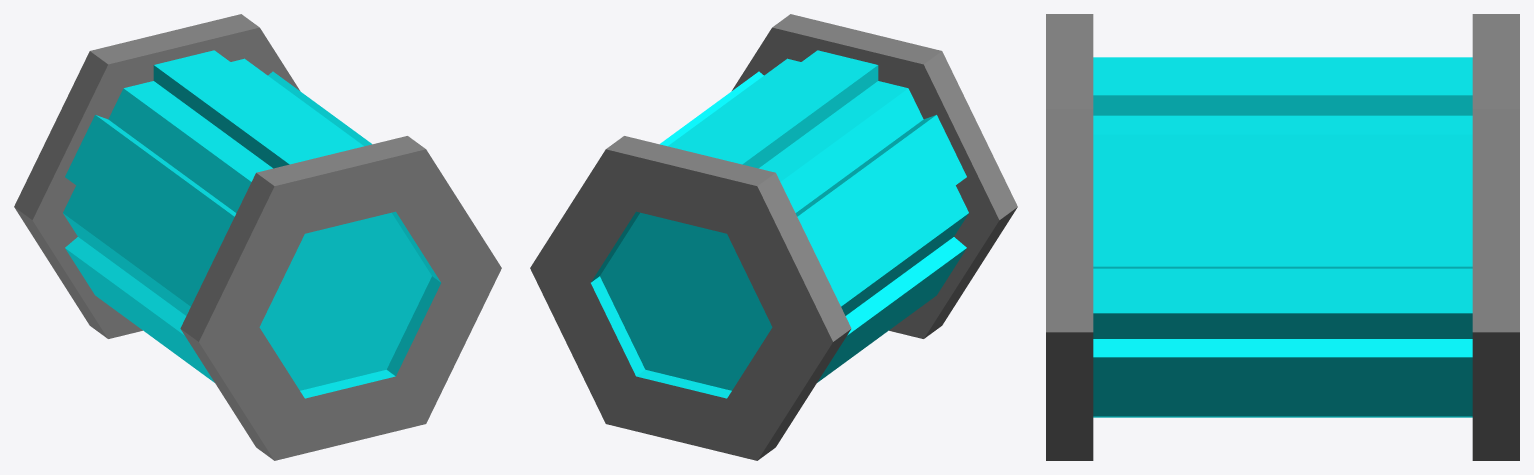
Rendered from piping.dae.
3 views of the same model, side by side, from view 1: azimuth 30°, elevation 25°; view 2: azimuth 150°, elevation 25°; view 3: azimuth 270°, elevation 25° (orthographic). The views are drawn at different scales.
Parts seen in each view (by area): view 1: clipBarrel_large; view 2: clipBarrel_large; view 3: clipBarrel_large.
Boxes of the visible parts, x1,y1,x2,y2 form: clipBarrel_large: [14, 14, 501, 460]; clipBarrel_large: [530, 14, 1017, 460]; clipBarrel_large: [1046, 14, 1519, 460].
Size of the model in its own units: 1 by 0.866 by 1.06.
